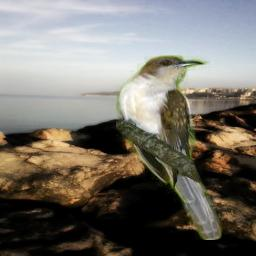Cuckoo: (116, 55, 222, 240)
